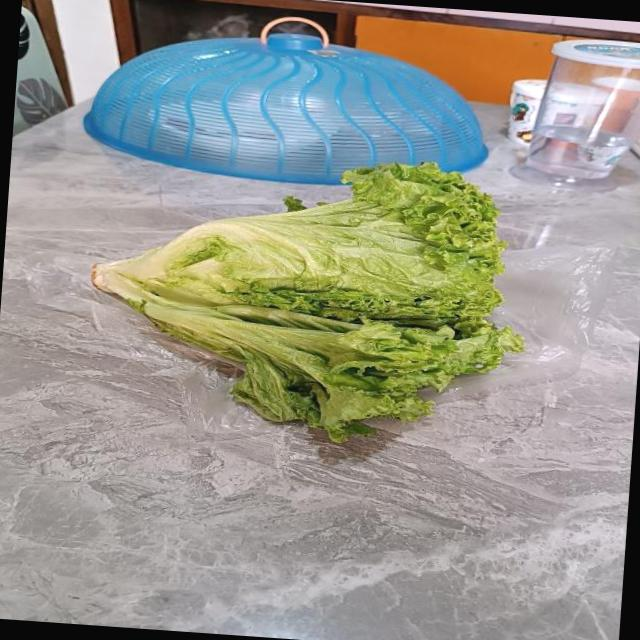Lettuce-Ready-to-Harvest: (91, 163, 522, 441)
